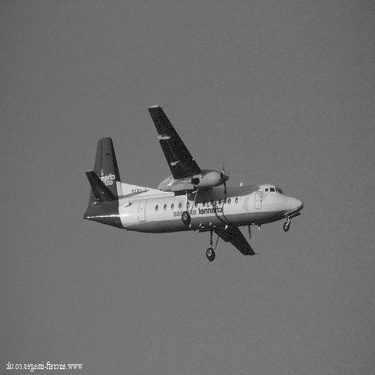airplane: (59, 91, 313, 267)
